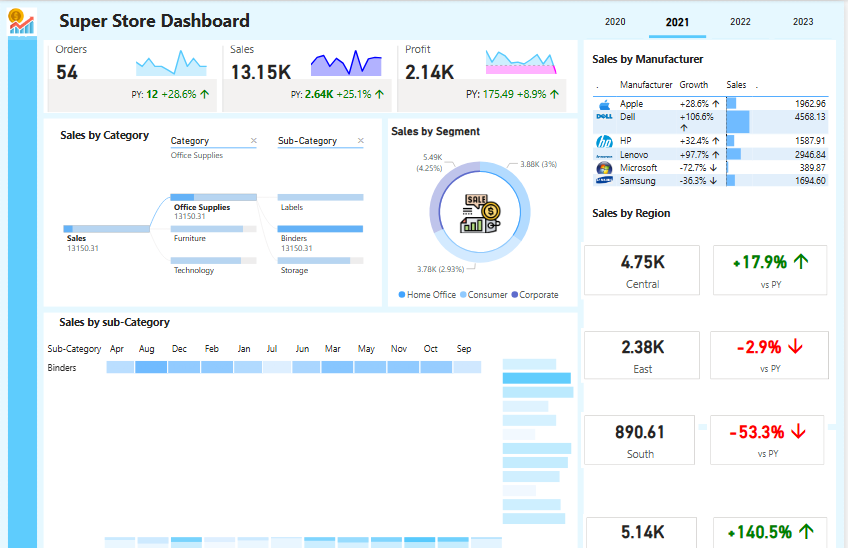

This screenshot's page, from the dashboard's own definition file:
{"tool":"powerbi","page":{"name":"Page 1","canvas":[1280,900],"ordinal":0},"visuals":[{"type":"advancedSlicerVisual","fields":{"Values":["Calendar.Year"]},"box":[883.6,0,384.7,62.2],"z":0},{"type":"cardVisual","fields":{"Data":["All Measures.Orders","All Measures.Sales","All Measures.Profit"]},"box":[67.2,62.2,799.6,112.5],"z":1000},{"type":"decompositionTreeVisual","fields":{"Analyze":["All Measures.Sales"],"ExplainBy":["dimSubCategory.Category","dimSubCategory.Sub-Category"]},"box":[67.2,186.5,505.6,263.7],"z":2000},{"type":"donutChart","fields":{"Category":["dimSegment.Segment"],"Y":["All Measures.Sales"]},"box":[587.9,186.5,278.8,277.2],"z":3000},{"type":"cardVisual","fields":{"Data":["All Measures.Sales"]},"box":[880,365,185,86.7],"z":4000},{"type":"cardVisual","fields":{"Data":["All Measures.Sales"]},"box":[880,495,185,83.3],"z":5000},{"type":"cardVisual","fields":{"Data":["All Measures.Sales"]},"box":[880,623.3,178.3,85],"z":6000},{"type":"cardVisual","fields":{"Data":["All Measures.Sales"]},"box":[883.3,776.7,178.3,78.3],"z":7000},{"type":"cardVisual","fields":{"Data":["All Measures.Sales Growth Arrow"]},"box":[1075,365,183.3,86.7],"z":8000},{"type":"cardVisual","fields":{"Data":["All Measures.Sales Growth Arrow"]},"box":[1071.7,495,190,83.3],"z":9000},{"type":"cardVisual","fields":{"Data":["All Measures.Sales Growth Arrow"]},"box":[1071.7,623.3,183.3,85],"z":10000},{"type":"cardVisual","fields":{"Data":["All Measures.Sales Growth Arrow"]},"box":[1075,776.7,183.3,78.3],"z":11000},{"type":"textbox","box":[85.7,185.7,171.4,51.8],"z":12000},{"type":"textbox","box":[891.7,305,138.3,38.3],"z":13000},{"type":"textbox","box":[84.9,469.3,202.4,41.6],"z":14000},{"type":"pivotTable","fields":{"Rows":["dimSubCategory.Sub-Category"],"Columns":["Calendar.Month"],"Values":["All Measures.Sales"]},"box":[61.4,511.4,710.2,289.2],"z":15000},{"type":"clusteredBarChart","fields":{"Y":["All Measures.Sales"],"Category":["dimSubCategory.Sub-Category"]},"box":[755.4,529,128.3,269.3],"z":16000},{"type":"clusteredColumnChart","fields":{"Category":["Calendar.Month"],"Y":["All Measures.Sales"]},"box":[153.6,798.8,612.7,101.2],"z":17000},{"type":"textbox","box":[891.7,71.7,201.7,40],"z":18000},{"type":"tableEx","fields":{"Values":["dimManufacturer.img","dimManufacturer.Manufacturer","All Measures.Sales Growth Arrow","All Measures.Sales Bar","All Measures.Sales"]},"box":[891.7,111.7,368.3,176.7],"z":19000},{"type":"textbox","box":[67.9,5.4,332.1,57.1],"z":20000},{"type":"image","box":[689.8,288.1,76.3,69.5],"z":21000},{"type":"image","box":[5,5,57.1,53.8],"z":23000}]}

Visuals, with their boxes on the page's 1280x900 design canvas (x1, y1, x2, y2). These are canvas units, not pixel positions in the 848x548 screenshot, which may show the page scaled, cropped or inside an application window:
advancedSlicerVisual - Calendar.Year: x1=884, y1=0, x2=1268, y2=62
cardVisual - All Measures.Orders x All Measures.Sales: x1=67, y1=62, x2=867, y2=175
decompositionTreeVisual - All Measures.Sales x dimSubCategory.Category: x1=67, y1=186, x2=573, y2=450
donutChart - dimSegment.Segment x All Measures.Sales: x1=588, y1=186, x2=867, y2=464
cardVisual - All Measures.Sales: x1=880, y1=365, x2=1065, y2=452
cardVisual - All Measures.Sales: x1=880, y1=495, x2=1065, y2=578
cardVisual - All Measures.Sales: x1=880, y1=623, x2=1058, y2=708
cardVisual - All Measures.Sales: x1=883, y1=777, x2=1062, y2=855
cardVisual - All Measures.Sales Growth Arrow: x1=1075, y1=365, x2=1258, y2=452
cardVisual - All Measures.Sales Growth Arrow: x1=1072, y1=495, x2=1262, y2=578
cardVisual - All Measures.Sales Growth Arrow: x1=1072, y1=623, x2=1255, y2=708
cardVisual - All Measures.Sales Growth Arrow: x1=1075, y1=777, x2=1258, y2=855
textbox: x1=86, y1=186, x2=257, y2=238
textbox: x1=892, y1=305, x2=1030, y2=343
textbox: x1=85, y1=469, x2=287, y2=511
pivotTable - dimSubCategory.Sub-Category x Calendar.Month: x1=61, y1=511, x2=772, y2=801
clusteredBarChart - All Measures.Sales x dimSubCategory.Sub-Category: x1=755, y1=529, x2=884, y2=798
clusteredColumnChart - Calendar.Month x All Measures.Sales: x1=154, y1=799, x2=766, y2=900
textbox: x1=892, y1=72, x2=1093, y2=112
tableEx - dimManufacturer.img x dimManufacturer.Manufacturer: x1=892, y1=112, x2=1260, y2=288
textbox: x1=68, y1=5, x2=400, y2=62
image: x1=690, y1=288, x2=766, y2=358
image: x1=5, y1=5, x2=62, y2=59
